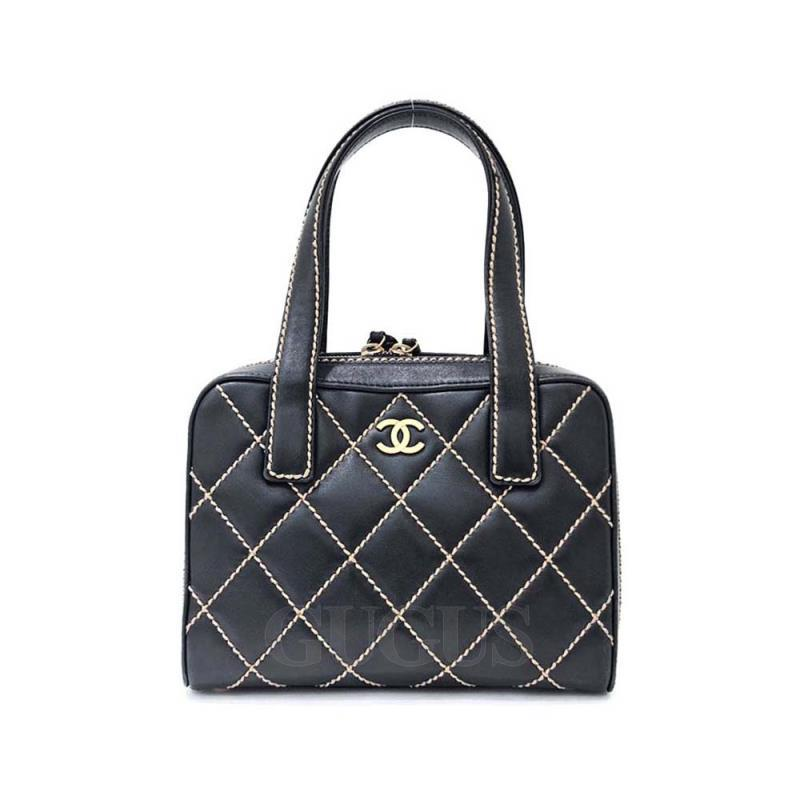channel: (175, 335, 639, 710), (349, 406, 453, 476)
